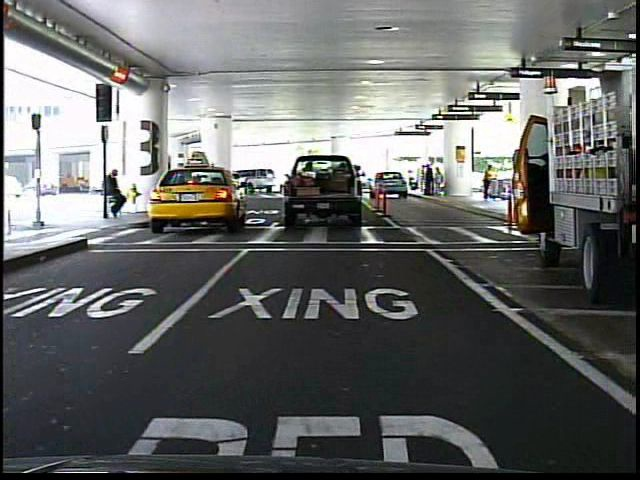person: (104, 164, 129, 222), (481, 159, 501, 206)
